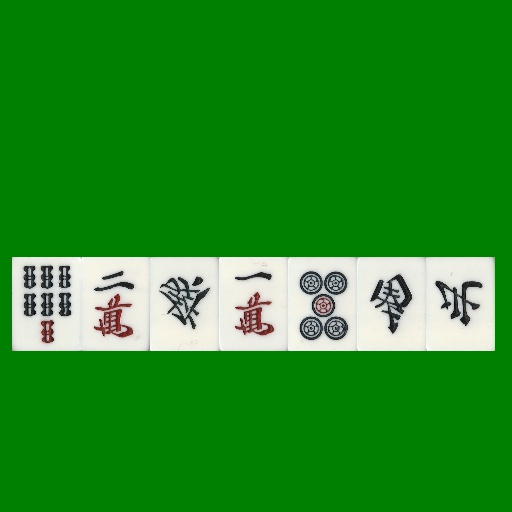1m: (219, 257, 288, 351)
2m: (81, 257, 150, 351)
5p: (288, 257, 357, 351)
7s: (12, 257, 81, 351)
hatsu: (150, 257, 219, 351)
north: (426, 257, 495, 351)
south: (357, 257, 426, 351)
